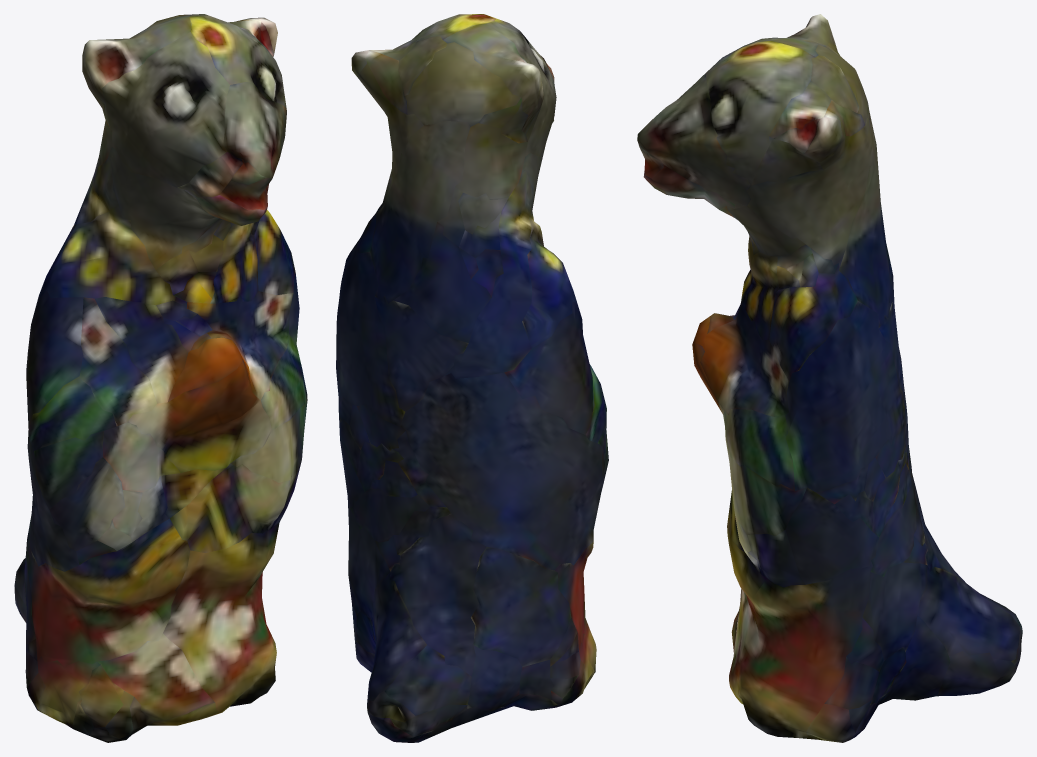
File: hall.glb
The picture shows the model from 3 angles, left to right: view 1: azimuth 30°, elevation 25°; view 2: azimuth 150°, elevation 25°; view 3: azimuth 270°, elevation 25°; orthographic projection. The views are drawn at different scales.
Bounding box in the file's own units: 0.257 × 0.6297 × 0.3306.
Materials: 1 (1 with a texture image).
